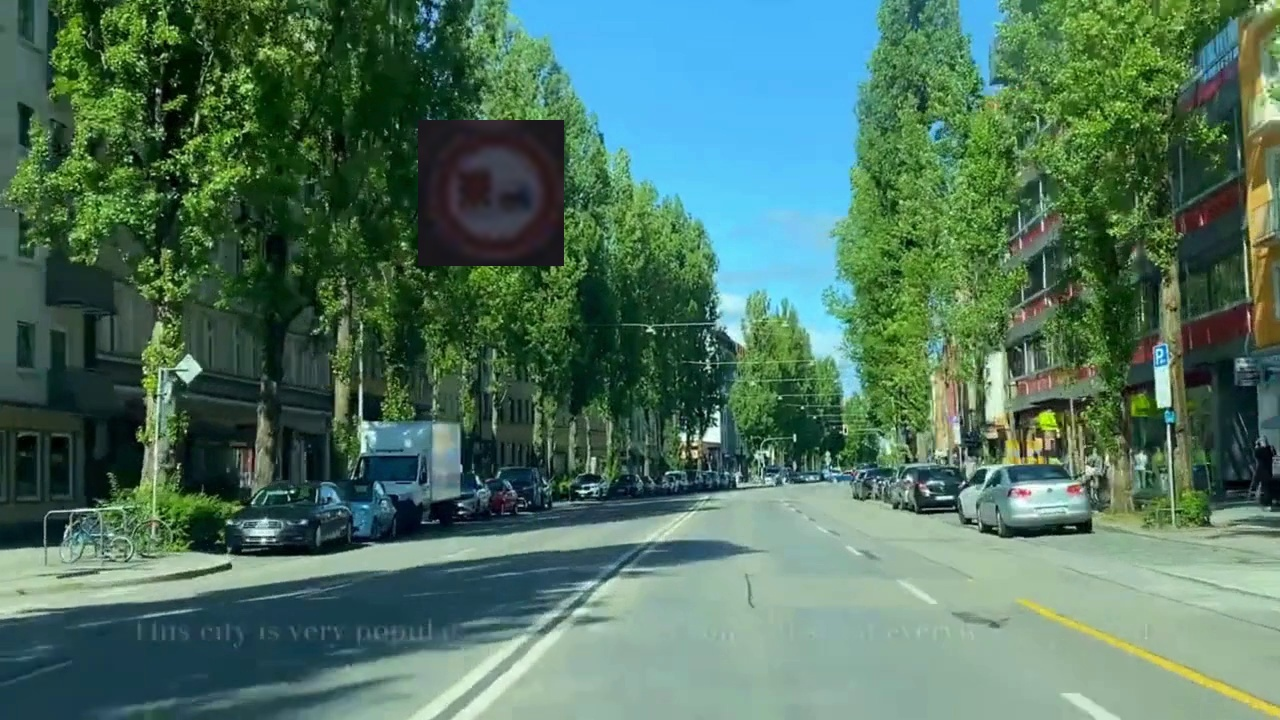No pass >3.5t: (418, 120, 564, 266)
